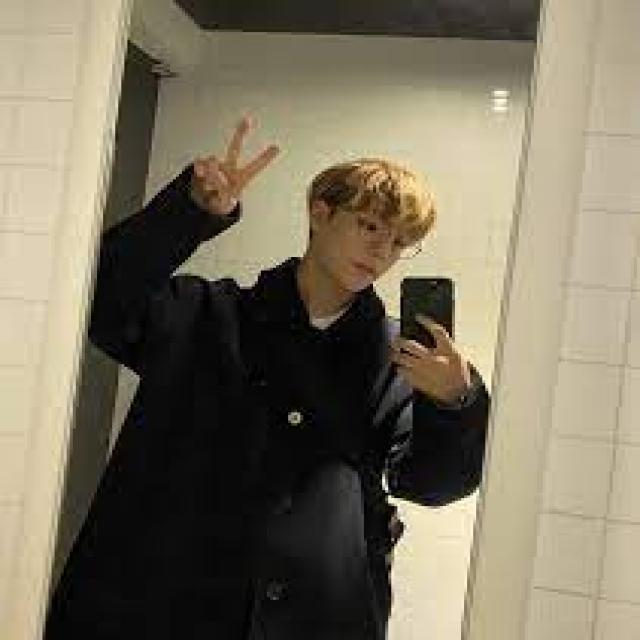Phone: (398, 273, 459, 355)
